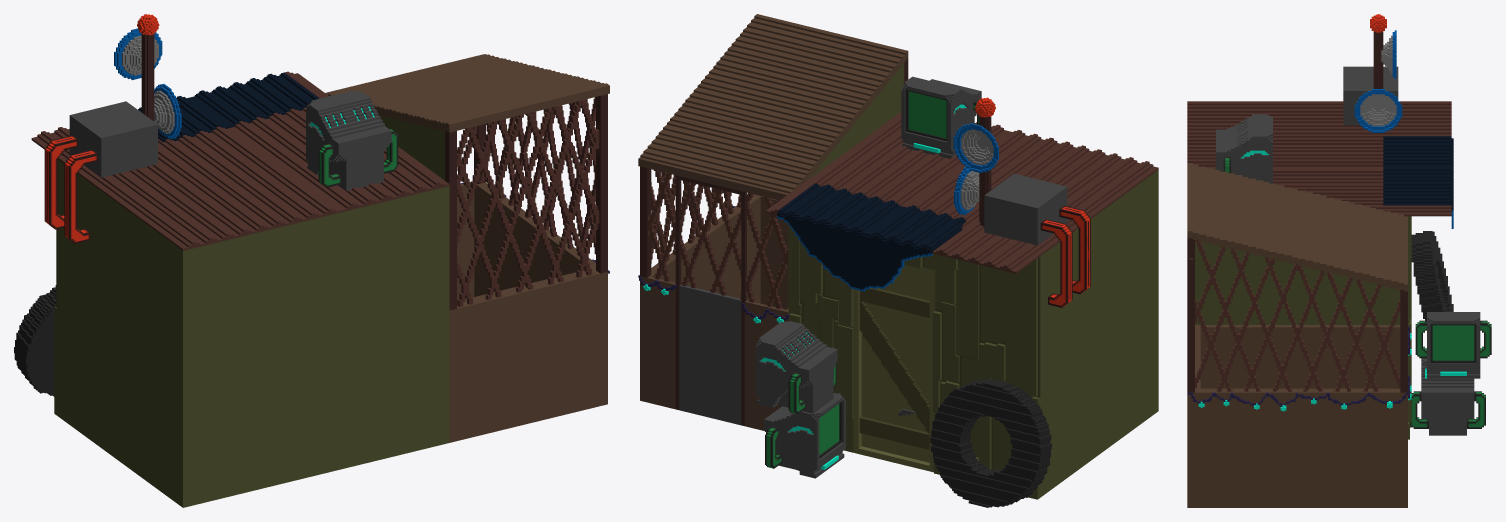
File: Enviroment-1-Shack.fbx
The picture shows the model from 3 angles, left to right: view 1: azimuth 30°, elevation 25°; view 2: azimuth 150°, elevation 25°; view 3: azimuth 270°, elevation 25°; orthographic projection. The views are drawn at different scales.
Parts seen in each view (by area): view 1: Shack; view 2: Shack; view 3: Shack.
Boxes of the visible parts, bbox=[...] form: Shack: bbox=[14, 14, 609, 507]; Shack: bbox=[638, 14, 1158, 507]; Shack: bbox=[1187, 14, 1491, 507].
Bounding box in the file's own units: 239 × 199 × 160.
